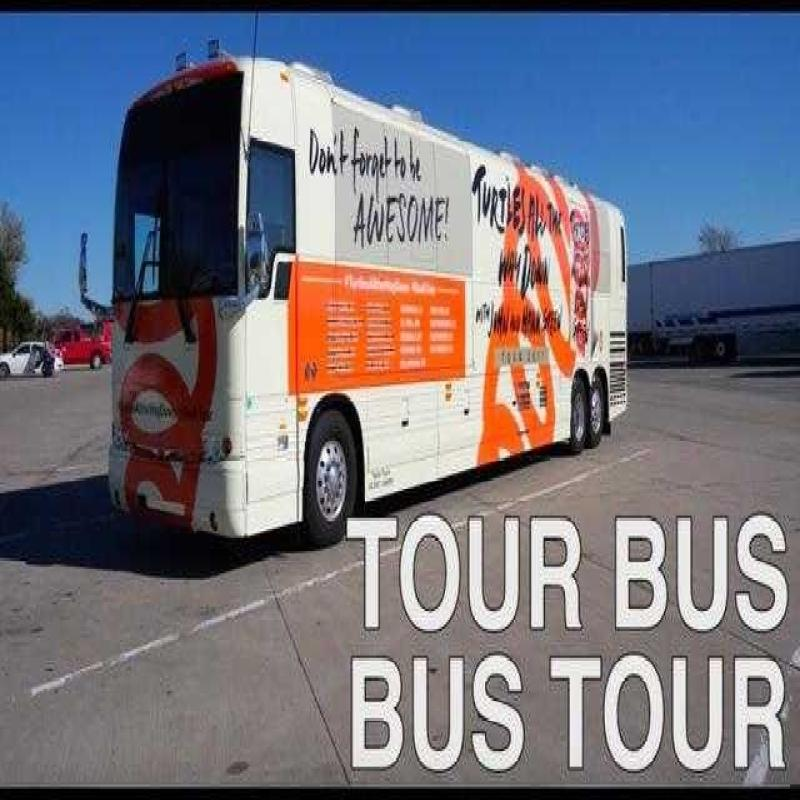bus: (89, 47, 675, 532)
